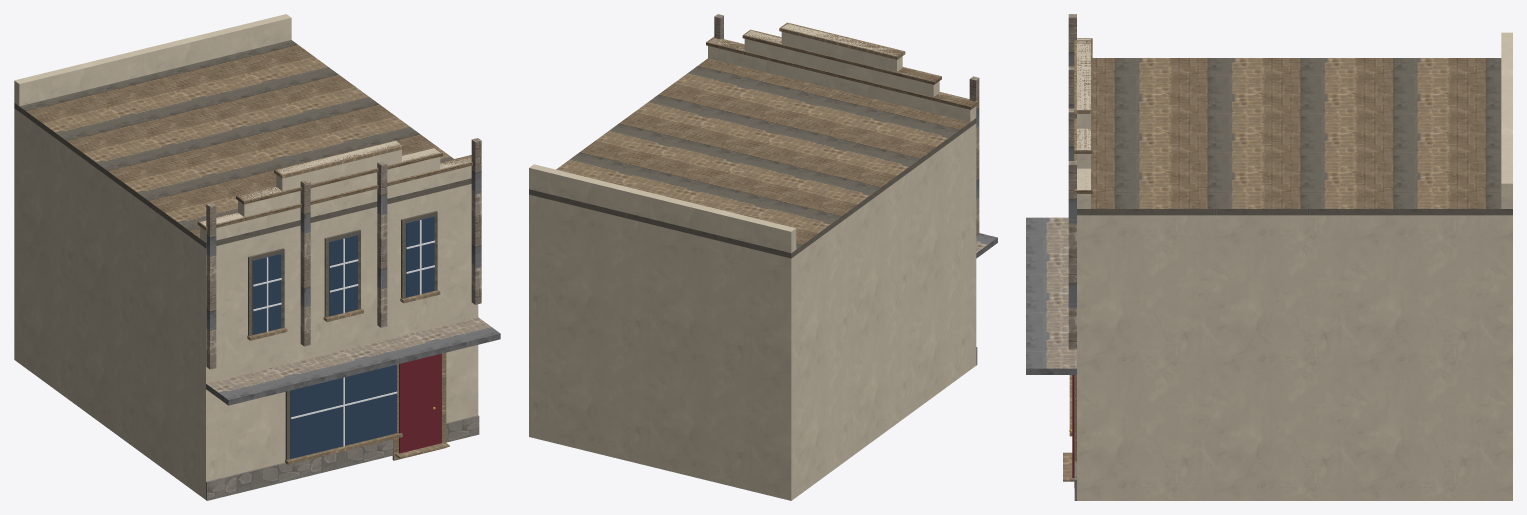
File: artdeco_w8_0.gltf
3 views of the same model, side by side, from view 1: azimuth 30°, elevation 25°; view 2: azimuth 150°, elevation 25°; view 3: azimuth 270°, elevation 25° (orthographic). The views are drawn at different scales.
Visible parts, largest first — view 1: artdeco_w8_0; view 2: artdeco_w8_0; view 3: artdeco_w8_0.
Part boxes in pixels (bbox=[...]): artdeco_w8_0: bbox=[14, 14, 500, 500]; artdeco_w8_0: bbox=[529, 14, 997, 500]; artdeco_w8_0: bbox=[1026, 14, 1512, 500].
Size of what is drawn, in the model's own units: 7.78 by 8.44 by 10.5.
Materials: 6 (3 with a texture image).
